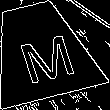M_N: (7, 20, 73, 82)
